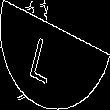L_N: (39, 26, 71, 84)
